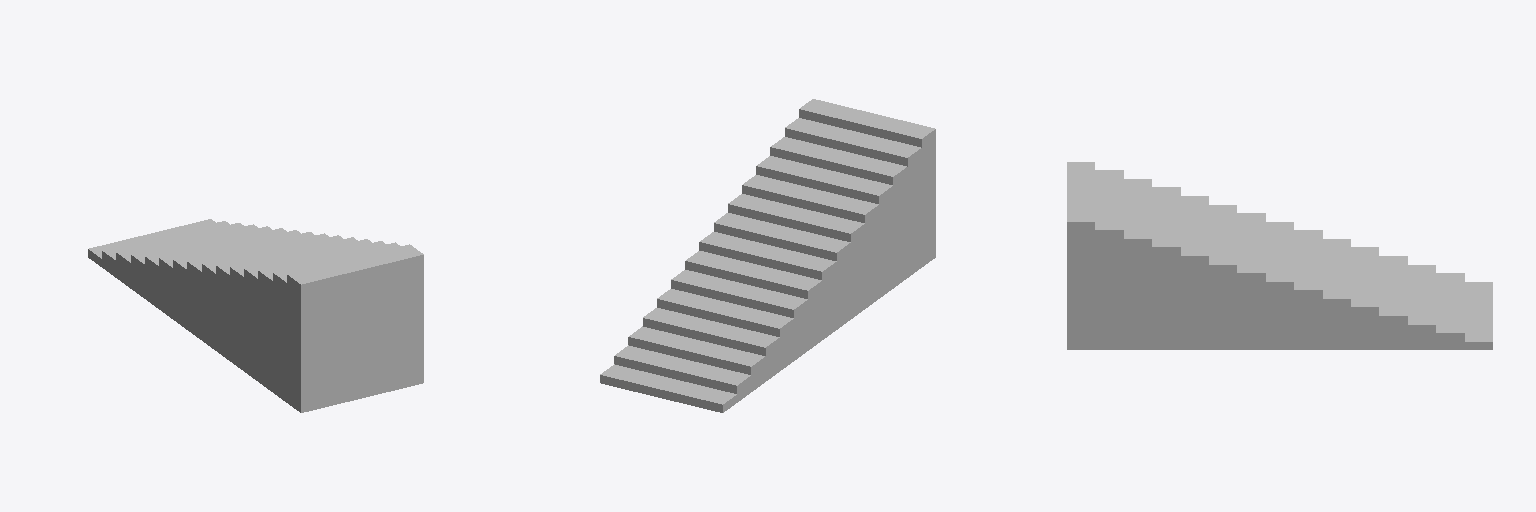
The model's file is Stairs.obj.
3 views of the same model, side by side, from view 1: azimuth 30°, elevation 25°; view 2: azimuth 150°, elevation 25°; view 3: azimuth 270°, elevation 25° (orthographic).
Parts seen in each view (by area): view 1: Stairs; view 2: Stairs; view 3: Stairs.
Part boxes in pixels (bbox=[...]): Stairs: bbox=[88, 219, 423, 412]; Stairs: bbox=[600, 99, 935, 412]; Stairs: bbox=[1067, 162, 1492, 349].
Bounding box in the file's own units: 2 × 2 × 6.